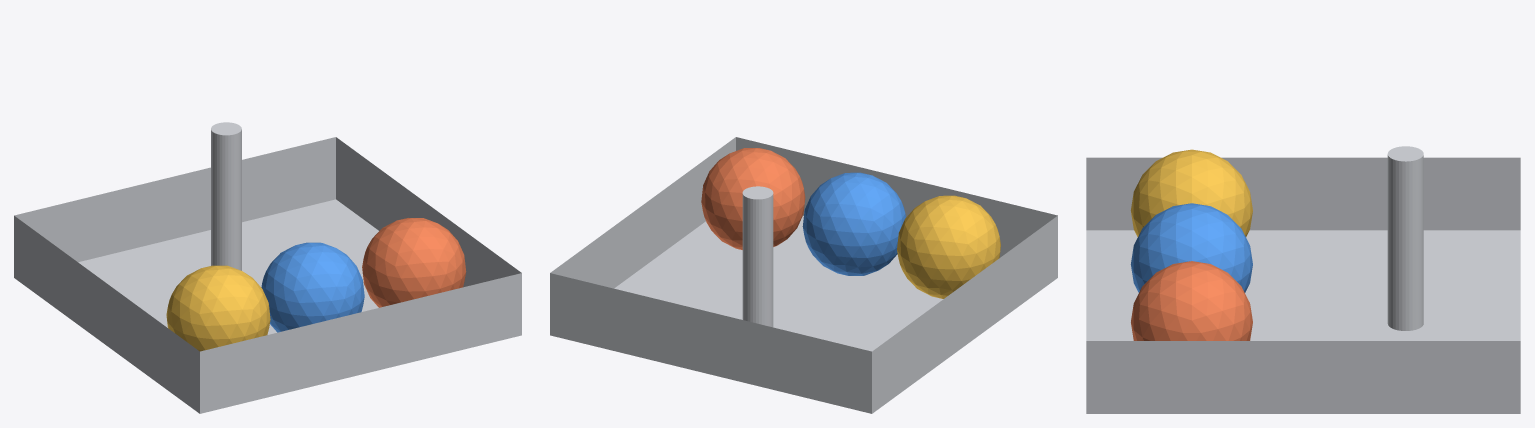
The model's file is SoftbodyRigidBody.glb.
3 views of the same model, side by side, from view 1: azimuth 30°, elevation 25°; view 2: azimuth 150°, elevation 25°; view 3: azimuth 270°, elevation 25° (orthographic). The views are drawn at different scales.
Visible parts, largest first — view 1: Plane.002, Icosphere.003, Icosphere.005, Icosphere.004; view 2: Plane.002, Icosphere.005, Icosphere.004, Icosphere.003; view 3: Plane.002, Icosphere.003, Icosphere.005, Icosphere.004.
Boxes of the visible parts, x1=… form: Plane.002: x1=14, y1=122, x2=521, y2=413; Icosphere.003: x1=362, y1=218, x2=466, y2=307; Icosphere.005: x1=261, y1=242, x2=364, y2=332; Icosphere.004: x1=166, y1=265, x2=270, y2=351; Plane.002: x1=550, y1=137, x2=1057, y2=413; Icosphere.005: x1=802, y1=172, x2=905, y2=275; Icosphere.004: x1=897, y1=195, x2=1000, y2=298; Icosphere.003: x1=701, y1=148, x2=805, y2=249; Plane.002: x1=1086, y1=146, x2=1520, y2=413; Icosphere.003: x1=1131, y1=261, x2=1252, y2=340; Icosphere.005: x1=1130, y1=203, x2=1252, y2=292; Icosphere.004: x1=1130, y1=149, x2=1252, y2=237.
Bounding box in the file's own units: 7.1 × 4.22 × 7.1.
